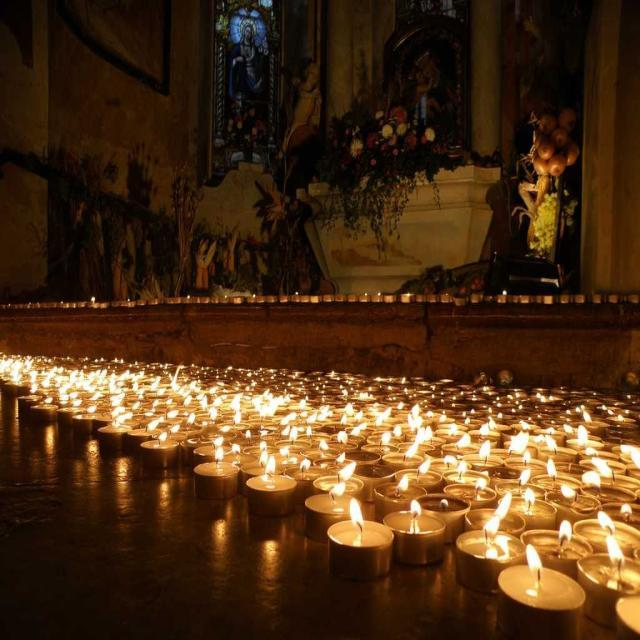Fire: (472, 424, 628, 588), (251, 398, 429, 502), (33, 364, 188, 424)
